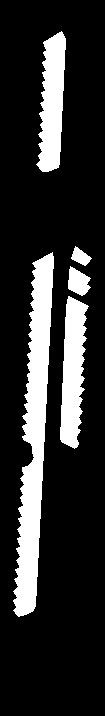parkingspot: (13, 252, 53, 616), (60, 296, 88, 448), (36, 31, 65, 171), (68, 266, 90, 295), (71, 246, 91, 265)
